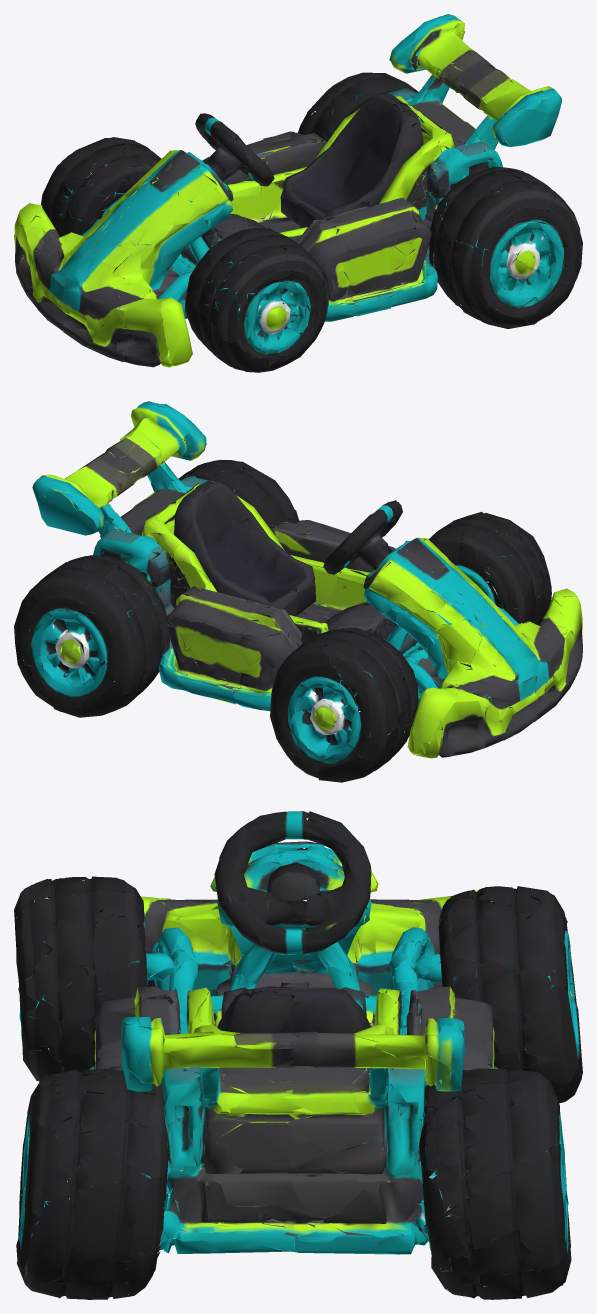
File: v-72c403b8.kart.glb
The picture shows the model from 3 angles, top to bottom: view 1: azimuth 30°, elevation 25°; view 2: azimuth 150°, elevation 25°; view 3: azimuth 270°, elevation 25°; orthographic projection. The views are drawn at different scales.
Parts seen in each view (by area): view 1: Mesh_0; view 2: Mesh_0; view 3: Mesh_0.
Boxes of the visible parts, x1=… form: Mesh_0: x1=14, y1=14, x2=582, y2=372; Mesh_0: x1=14, y1=401, x2=582, y2=782; Mesh_0: x1=14, y1=811, x2=582, y2=1299.
Bounding box in the file's own units: 1.95 × 0.8515 × 1.41.
1 material, 1 textured.
